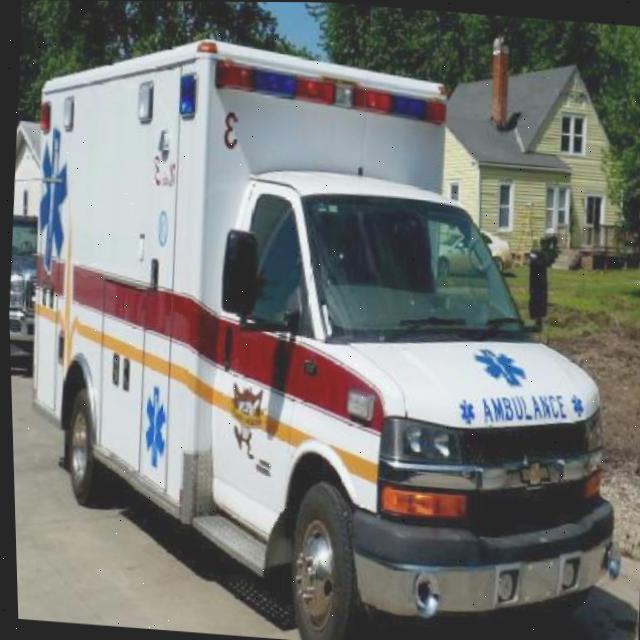emergency: (1, 23, 640, 640)
